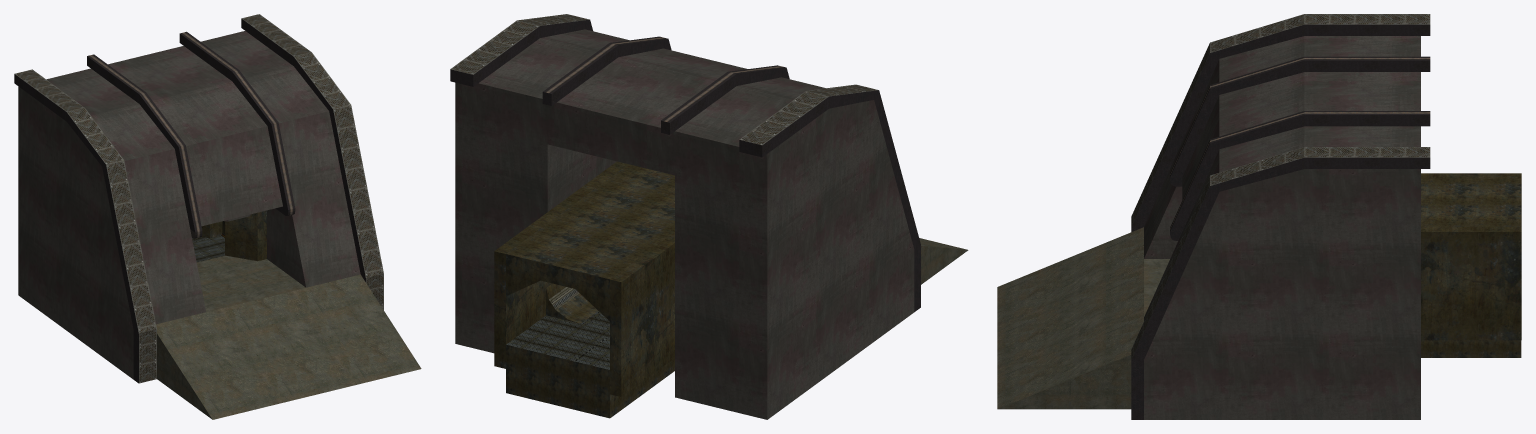
File: deegtunnelenter.fbx
3 views of the same model, side by side, from view 1: azimuth 30°, elevation 25°; view 2: azimuth 150°, elevation 25°; view 3: azimuth 270°, elevation 25° (orthographic). The views are drawn at different scales.
Parts seen in each view (by area): view 1: Object; view 2: Object; view 3: Object.
Boxes of the visible parts, x1,y1,x2,y2 form: Object: [14, 14, 421, 419]; Object: [450, 14, 968, 419]; Object: [997, 14, 1521, 419].
Bounding box in the file's own units: 5400 × 4600 × 8328.
